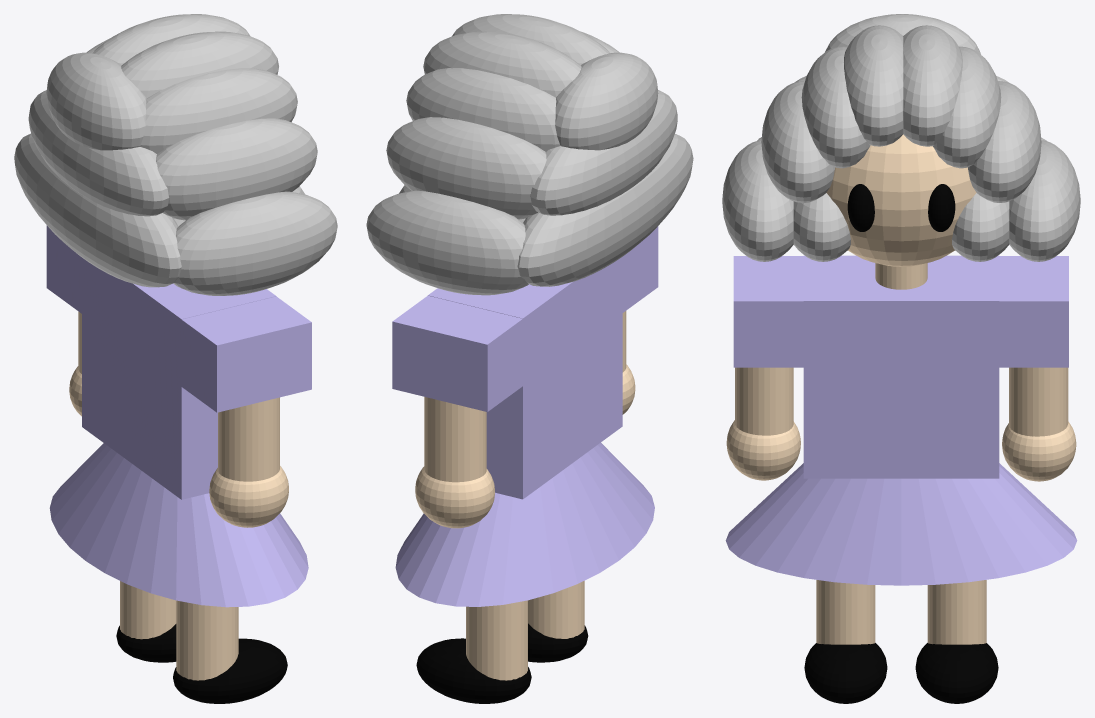
Rendered from Grandma.fbx.
3 renders of one model, left to right at view 1: azimuth 30°, elevation 25°; view 2: azimuth 150°, elevation 25°; view 3: azimuth 270°, elevation 25°, orthographic.
Visible parts, largest first — view 1: Sphere.010, Cube.001, Cone, Sphere.003, Sphere.018, Sphere.015, Sphere.017, Sphere.016, Sphere.019, Sphere.014; view 2: Sphere.010, Cube.001, Cone, Sphere.003, Sphere.019, Sphere.014, Sphere.016, Sphere.017, Sphere.018, Sphere.015; view 3: Sphere.010, Cube.001, Cone, Sphere.018, Sphere.019, Sphere.014, Sphere.015, Sphere.017.
Boxes of the visible parts, <box> form: Sphere.010: <box>86,14,337,295</box>; Cube.001: <box>46,225,311,499</box>; Cone: <box>49,443,308,607</box>; Sphere.003: <box>14,133,181,287</box>; Sphere.018: <box>173,600,287,703</box>; Sphere.015: <box>209,397,288,527</box>; Sphere.017: <box>46,52,146,150</box>; Sphere.016: <box>28,90,169,216</box>; Sphere.019: <box>116,581,176,662</box>; Sphere.014: <box>69,311,81,416</box>; Sphere.010: <box>366,14,619,295</box>; Cube.001: <box>392,226,658,499</box>; Cone: <box>395,442,654,606</box>; Sphere.003: <box>517,134,693,286</box>; Sphere.019: <box>416,600,531,703</box>; Sphere.014: <box>415,397,494,528</box>; Sphere.016: <box>530,90,677,215</box>; Sphere.017: <box>555,52,658,150</box>; Sphere.018: <box>528,581,588,662</box>; Sphere.015: <box>622,311,635,414</box>; Sphere.010: <box>722,25,1080,289</box>; Cube.001: <box>733,255,1068,478</box>; Cone: <box>725,463,1077,585</box>; Sphere.018: <box>804,580,887,703</box>; Sphere.019: <box>915,580,998,703</box>; Sphere.014: <box>1002,367,1076,481</box>; Sphere.015: <box>726,367,800,480</box>; Sphere.017: <box>825,14,980,54</box>.
Bounding box in the file's own units: 242 × 722 × 366.
